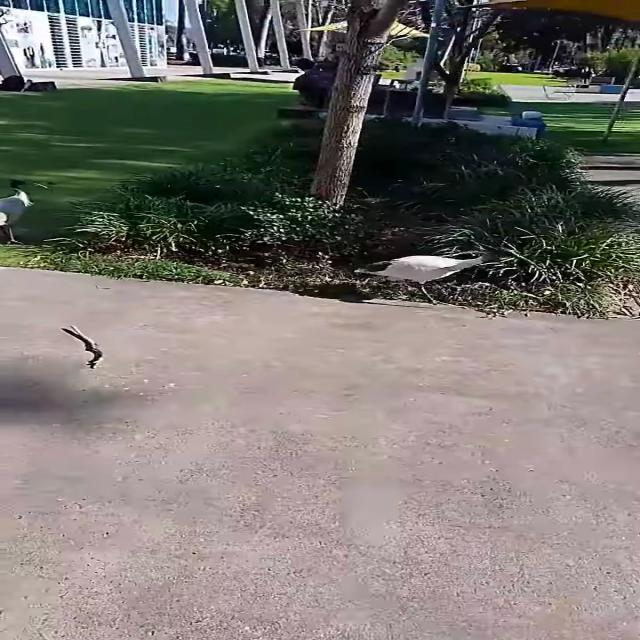Birds-Ibis: (352, 247, 508, 309), (0, 172, 61, 248)
